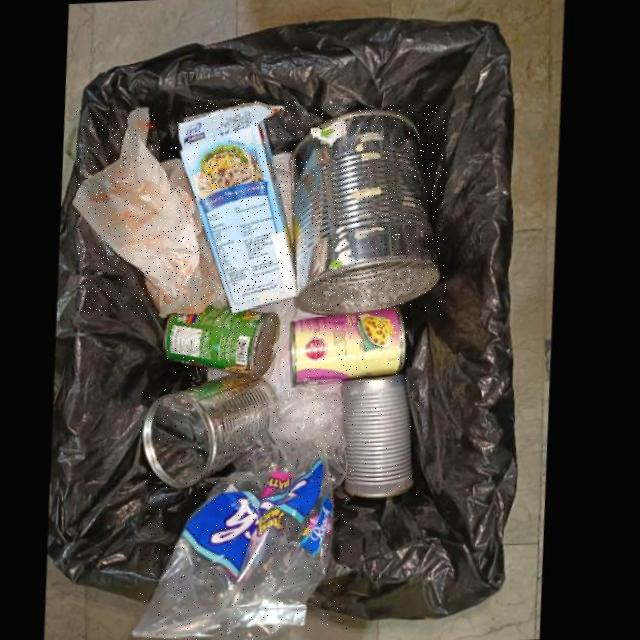metal: (299, 105, 447, 317), (152, 374, 278, 489), (349, 374, 420, 499), (298, 307, 411, 383), (168, 307, 284, 376)
paper: (181, 100, 302, 311)
plastic: (141, 386, 354, 640)
wrapper: (76, 110, 234, 316)
